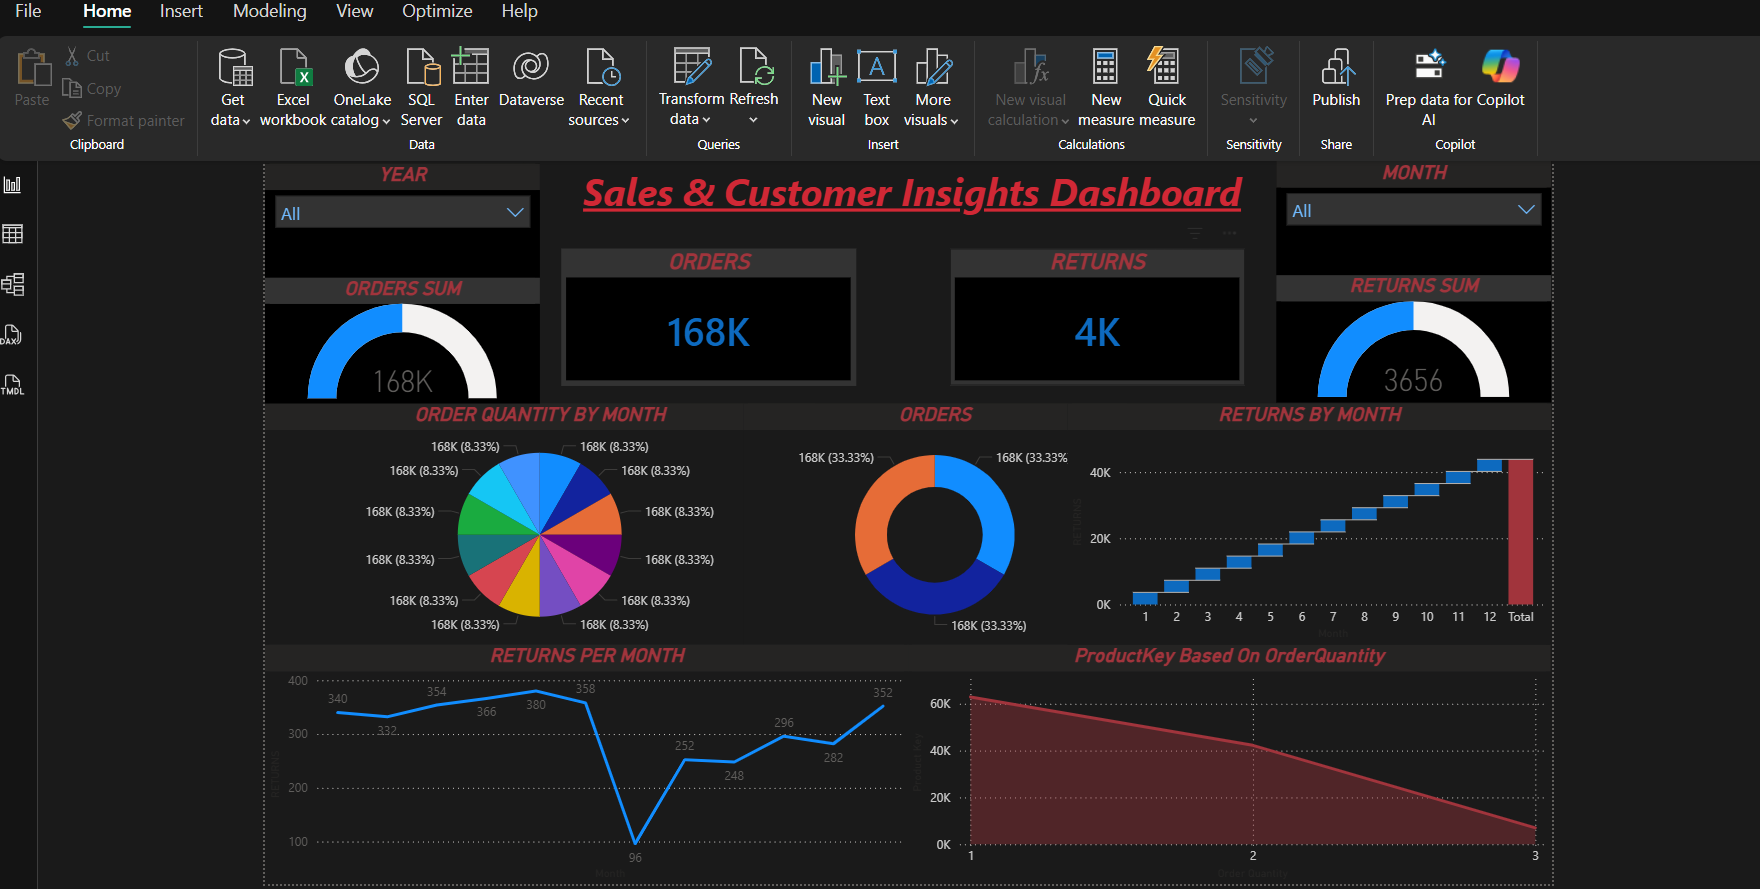

What the dashboard file says about the page in this screenshot:
{"tool":"powerbi","page":{"name":"Page 1","canvas":[1280,720],"ordinal":0},"visuals":[{"type":"pieChart","title":"ORDER QUANTITY BY MONTH","fields":{"Category":["gold extcalendar.Month"],"Y":["Sum(gold extsales.OrderQuantity)"]},"box":[0,241.4,547.1,240],"z":0},{"type":"donutChart","title":"ORDERS","fields":{"Category":["gold extcustomers.Gender"],"Y":["Sum(gold extsales.OrderQuantity)"]},"box":[470,241.4,381.4,240],"z":1000},{"type":"areaChart","title":"ProductKey Based On OrderQuantity","fields":{"Category":["gold extsales.OrderQuantity"],"Y":["CountNonNull(gold extsales.ProductKey)"]},"box":[640,481.4,640,238.6],"z":2000},{"type":"lineChart","title":"RETURNS  PER MONTH","fields":{"Category":["gold extreturns.ReturnDate.Variation.Date Hierarchy.Month"],"Y":["Sum(gold extreturns.ReturnQuantity)"]},"box":[0,481.4,640,238.6],"z":3000},{"type":"textbox","box":[257.1,0,772.9,101.4],"z":4000},{"type":"gauge","fields":{"Y":["Sum(gold extreturns.ReturnQuantity)"]},"box":[1023.8,99.5,256.3,139.3],"z":5000},{"type":"cardVisual","title":"RETURNS","fields":{"Data":["Sum(gold extreturns.ReturnQuantity)"]},"box":[687.9,85.8,220.2,114.4],"z":6000},{"type":"waterfallChart","title":"RETURNS BY MONTH","fields":{"Category":["gold extcalendar.Month"],"Y":["Sum(gold extreturns.ReturnQuantity)"]},"box":[798.6,241.4,481.4,240],"z":7000},{"type":"slicer","title":"MONTH","fields":{"Values":["gold extcalendar.MonthName"]},"box":[0,1.2,256.3,98.3],"z":8000},{"type":"slicer","title":"YEAR","fields":{"Values":["gold extcalendar.Year"]},"box":[1023.8,3.7,256.3,98.3],"z":9000},{"type":"cardVisual","title":"ORDERS","fields":{"Data":["Sum(gold extsales.OrderQuantity)"]},"box":[419.2,85.8,220.2,114.4],"z":10000},{"type":"gauge","fields":{"Y":["Sum(gold extsales.OrderQuantity)"]},"box":[0,102,256.3,139.3],"z":11000}]}

Visuals, with their boxes on the page's 1280x720 design canvas (x1, y1, x2, y2). These are canvas units, not pixel positions in the 1760x889 screenshot, which may show the page scaled, cropped or inside an application window:
"ORDER QUANTITY BY MONTH" pieChart: 0 241 547 481
"ORDERS" donutChart: 470 241 851 481
"ProductKey Based On OrderQuantity" areaChart: 640 481 1280 720
"RETURNS  PER MONTH" lineChart: 0 481 640 720
textbox: 257 0 1030 101
gauge - Sum(gold extreturns.ReturnQuantity): 1024 100 1280 239
"RETURNS" cardVisual: 688 86 908 200
"RETURNS BY MONTH" waterfallChart: 799 241 1280 481
"MONTH" slicer: 0 1 256 100
"YEAR" slicer: 1024 4 1280 102
"ORDERS" cardVisual: 419 86 639 200
gauge - Sum(gold extsales.OrderQuantity): 0 102 256 241
